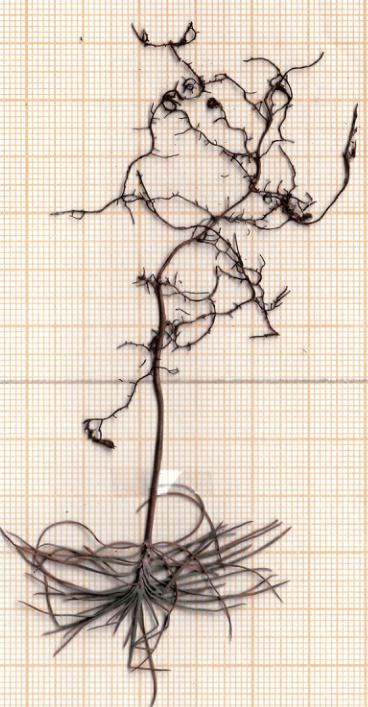flower: (0, 500, 295, 673)
root: (67, 27, 357, 385)
stem: (136, 383, 172, 535)
